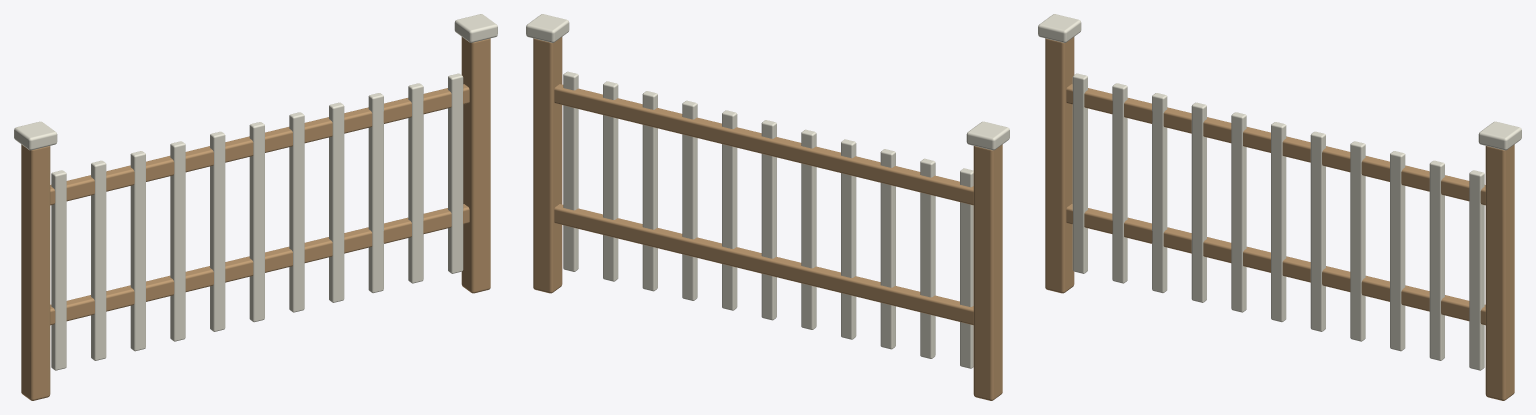
Rendered from beekeeping-and-honey-farm-apiary-fence-section-5223943d__30745.glb.
3 renders of one model, left to right at view 1: azimuth 30°, elevation 25°; view 2: azimuth 150°, elevation 25°; view 3: azimuth 330°, elevation 25°, orthographic.
Visible parts, largest first — view 1: apiary-fence-section; view 2: apiary-fence-section; view 3: apiary-fence-section.
Part boxes in pixels (box(x1,y1,x2,y2)): apiary-fence-section: box(14, 14, 497, 400); apiary-fence-section: box(526, 14, 1009, 400); apiary-fence-section: box(1038, 14, 1521, 400).
Size of the model in its own units: 2.13 by 1.15 by 0.13.
